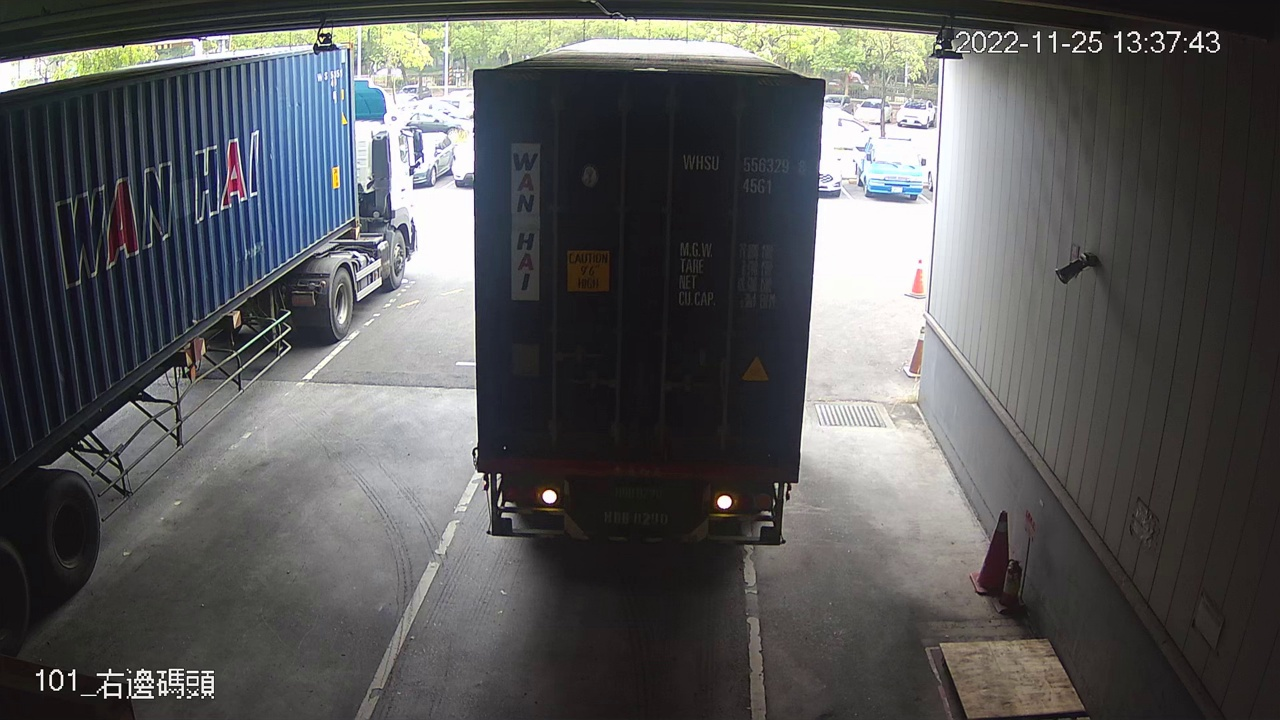container: (679, 146, 811, 200)
